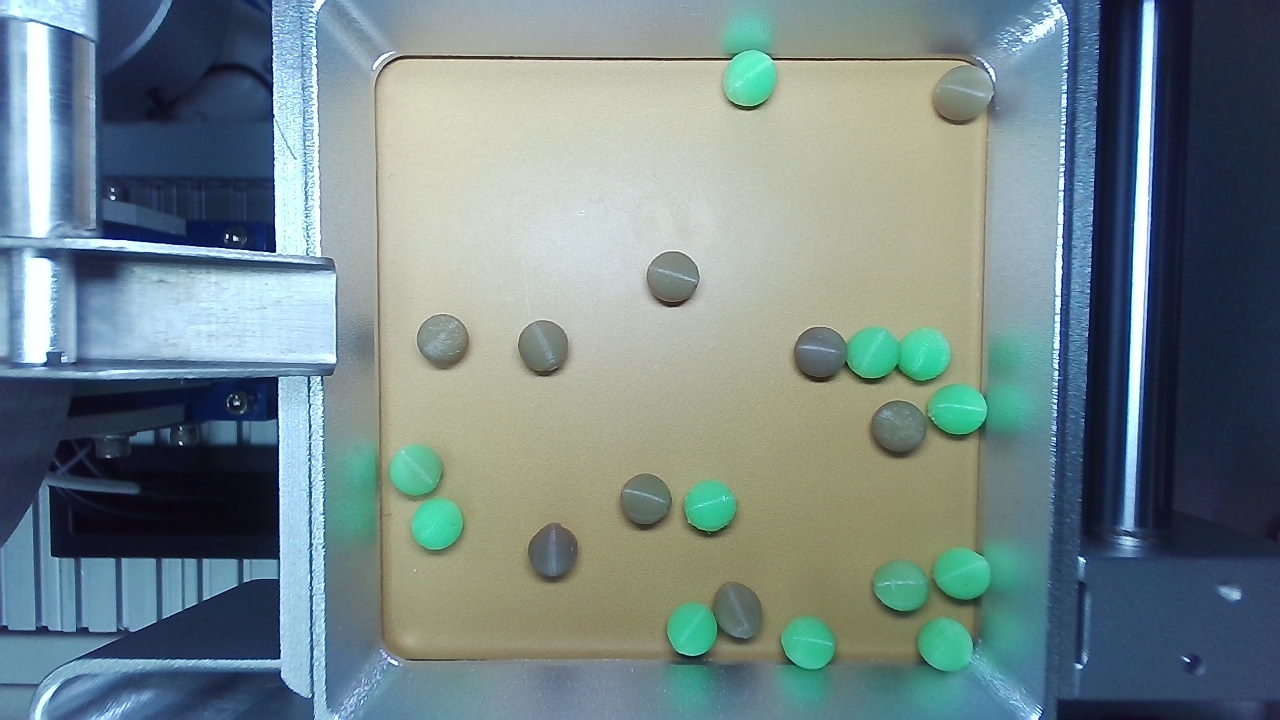XLabel: (631, 267, 668, 303)
YLabel: (409, 283, 445, 318)
none: (576, 338, 741, 504)
withoutcover: (252, 357, 517, 563)
